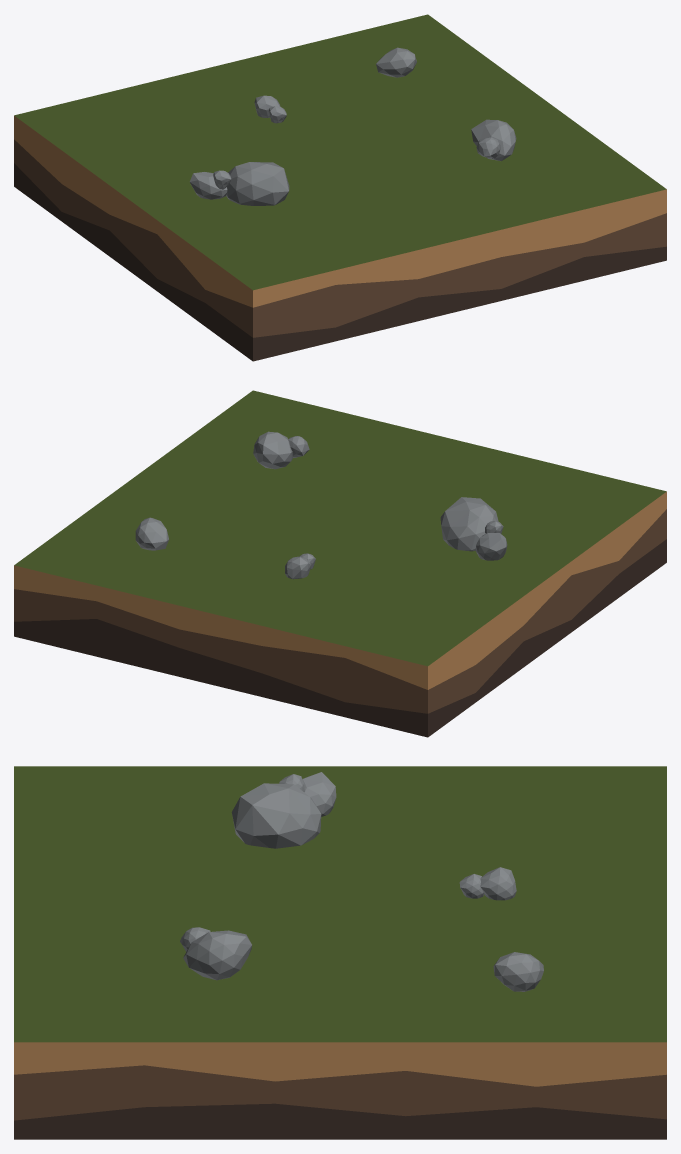
The model's file is dirty_site.fbx.
The picture shows the model from 3 angles, top to bottom: view 1: azimuth 30°, elevation 25°; view 2: azimuth 150°, elevation 25°; view 3: azimuth 270°, elevation 25°; orthographic projection. The views are drawn at different scales.
Parts seen in each view (by area): view 1: floor, rocks.001; view 2: floor, rocks.001; view 3: floor, rocks.001.
Part boxes in pixels (x1,y1,x2,y2): floor: [14, 14, 666, 361]; rocks.001: [189, 47, 516, 205]; floor: [14, 390, 666, 737]; rocks.001: [135, 431, 507, 579]; floor: [14, 766, 666, 1139]; rocks.001: [180, 772, 543, 991].
Bounding box in the file's own units: 17.97 × 4.4 × 17.97.
